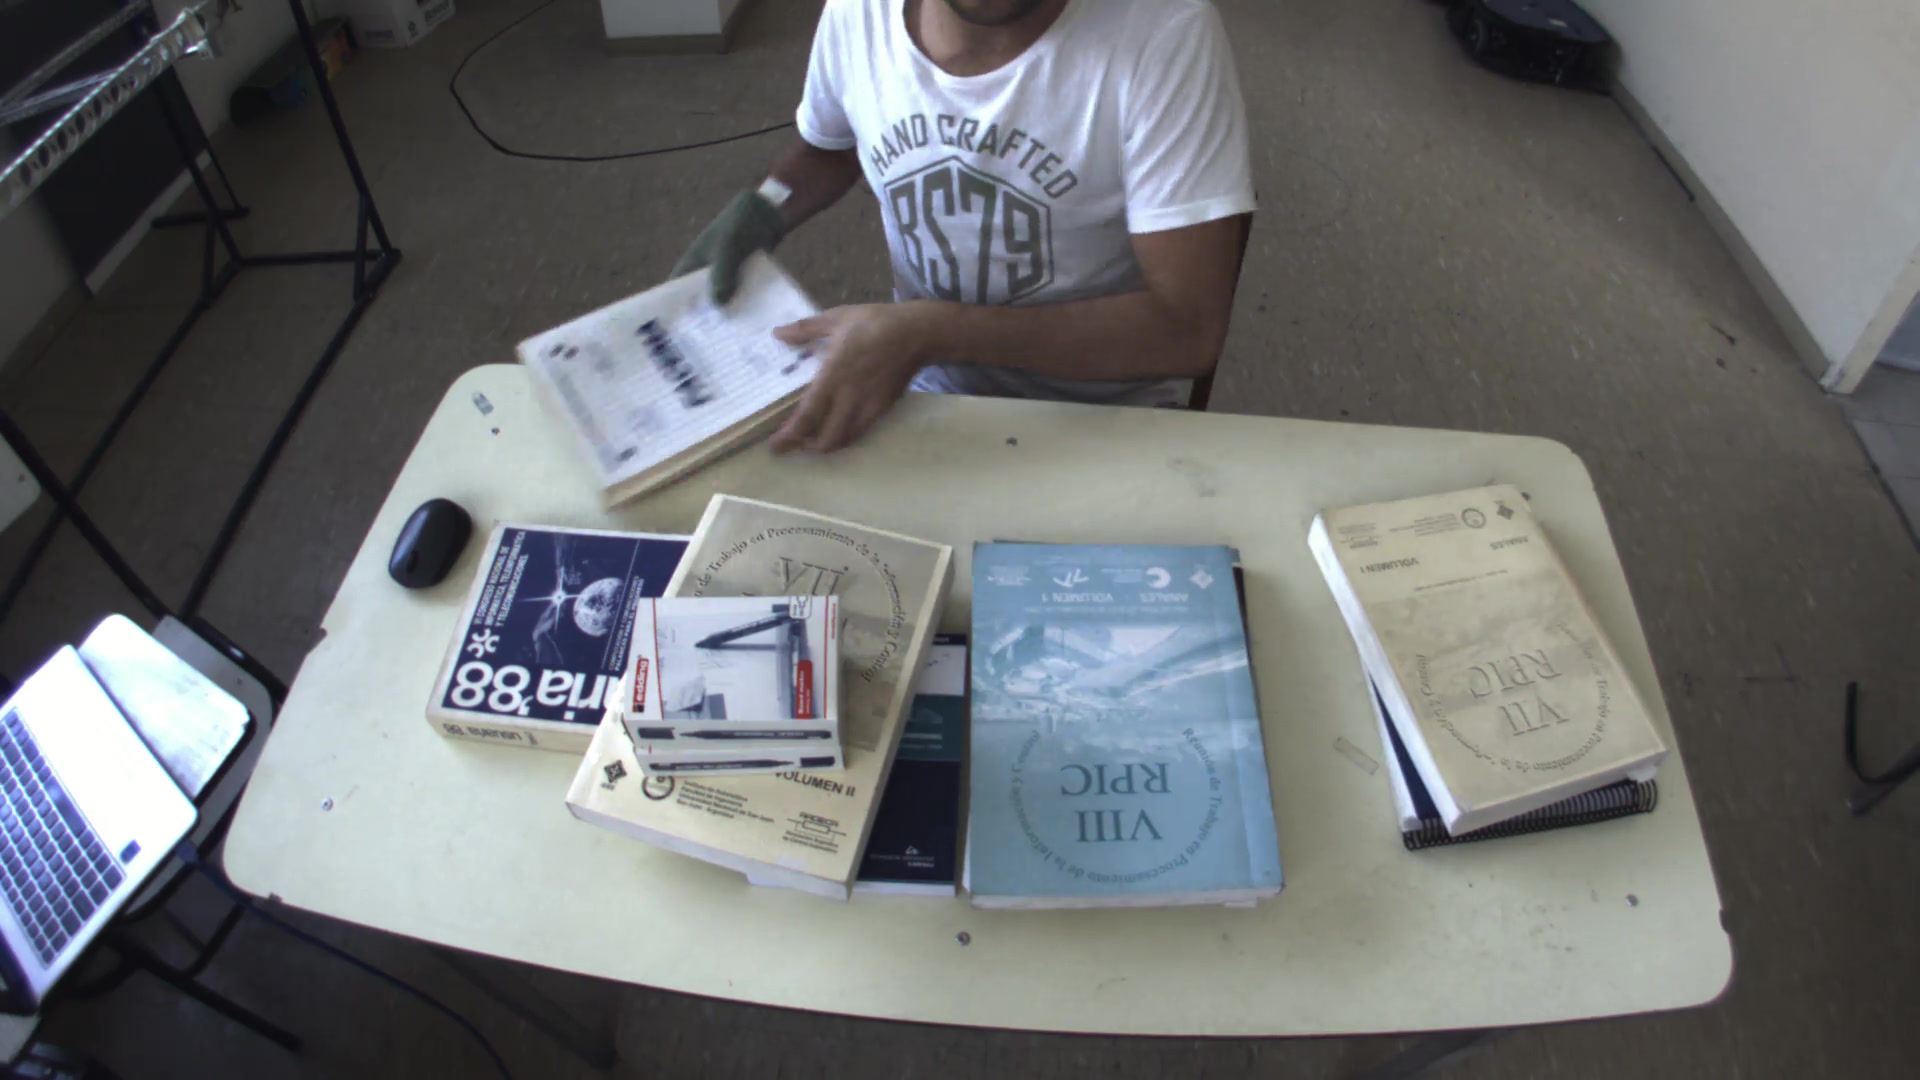hand: (758, 287, 923, 458)
